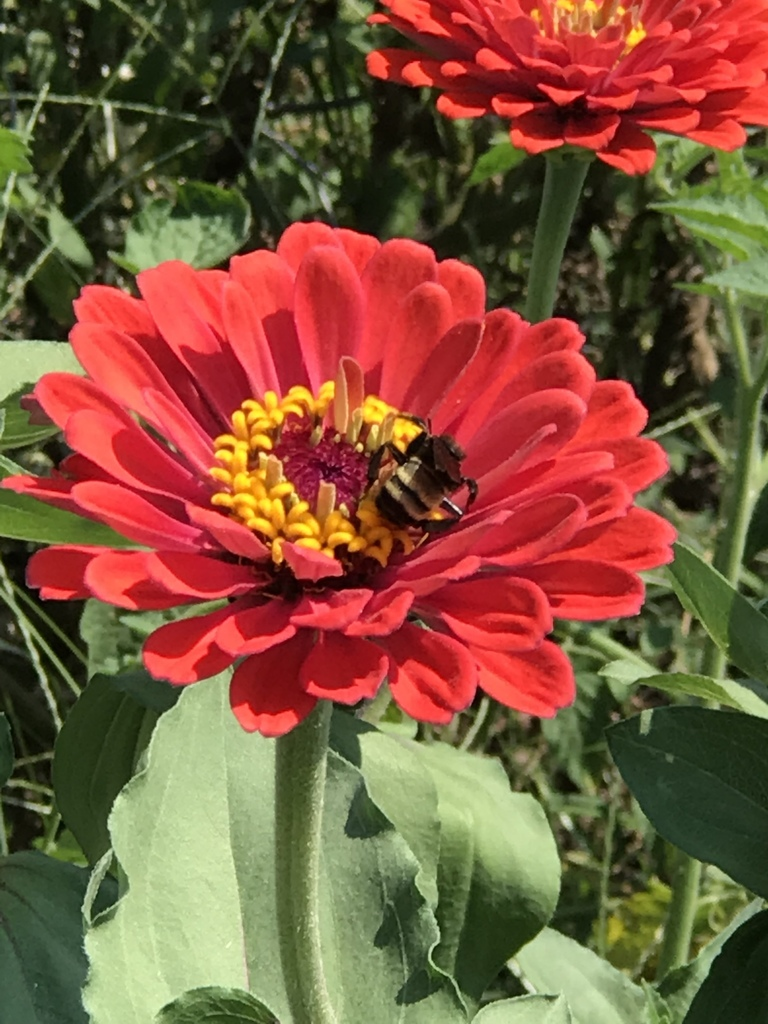bumblebee: (360, 410, 480, 540)
